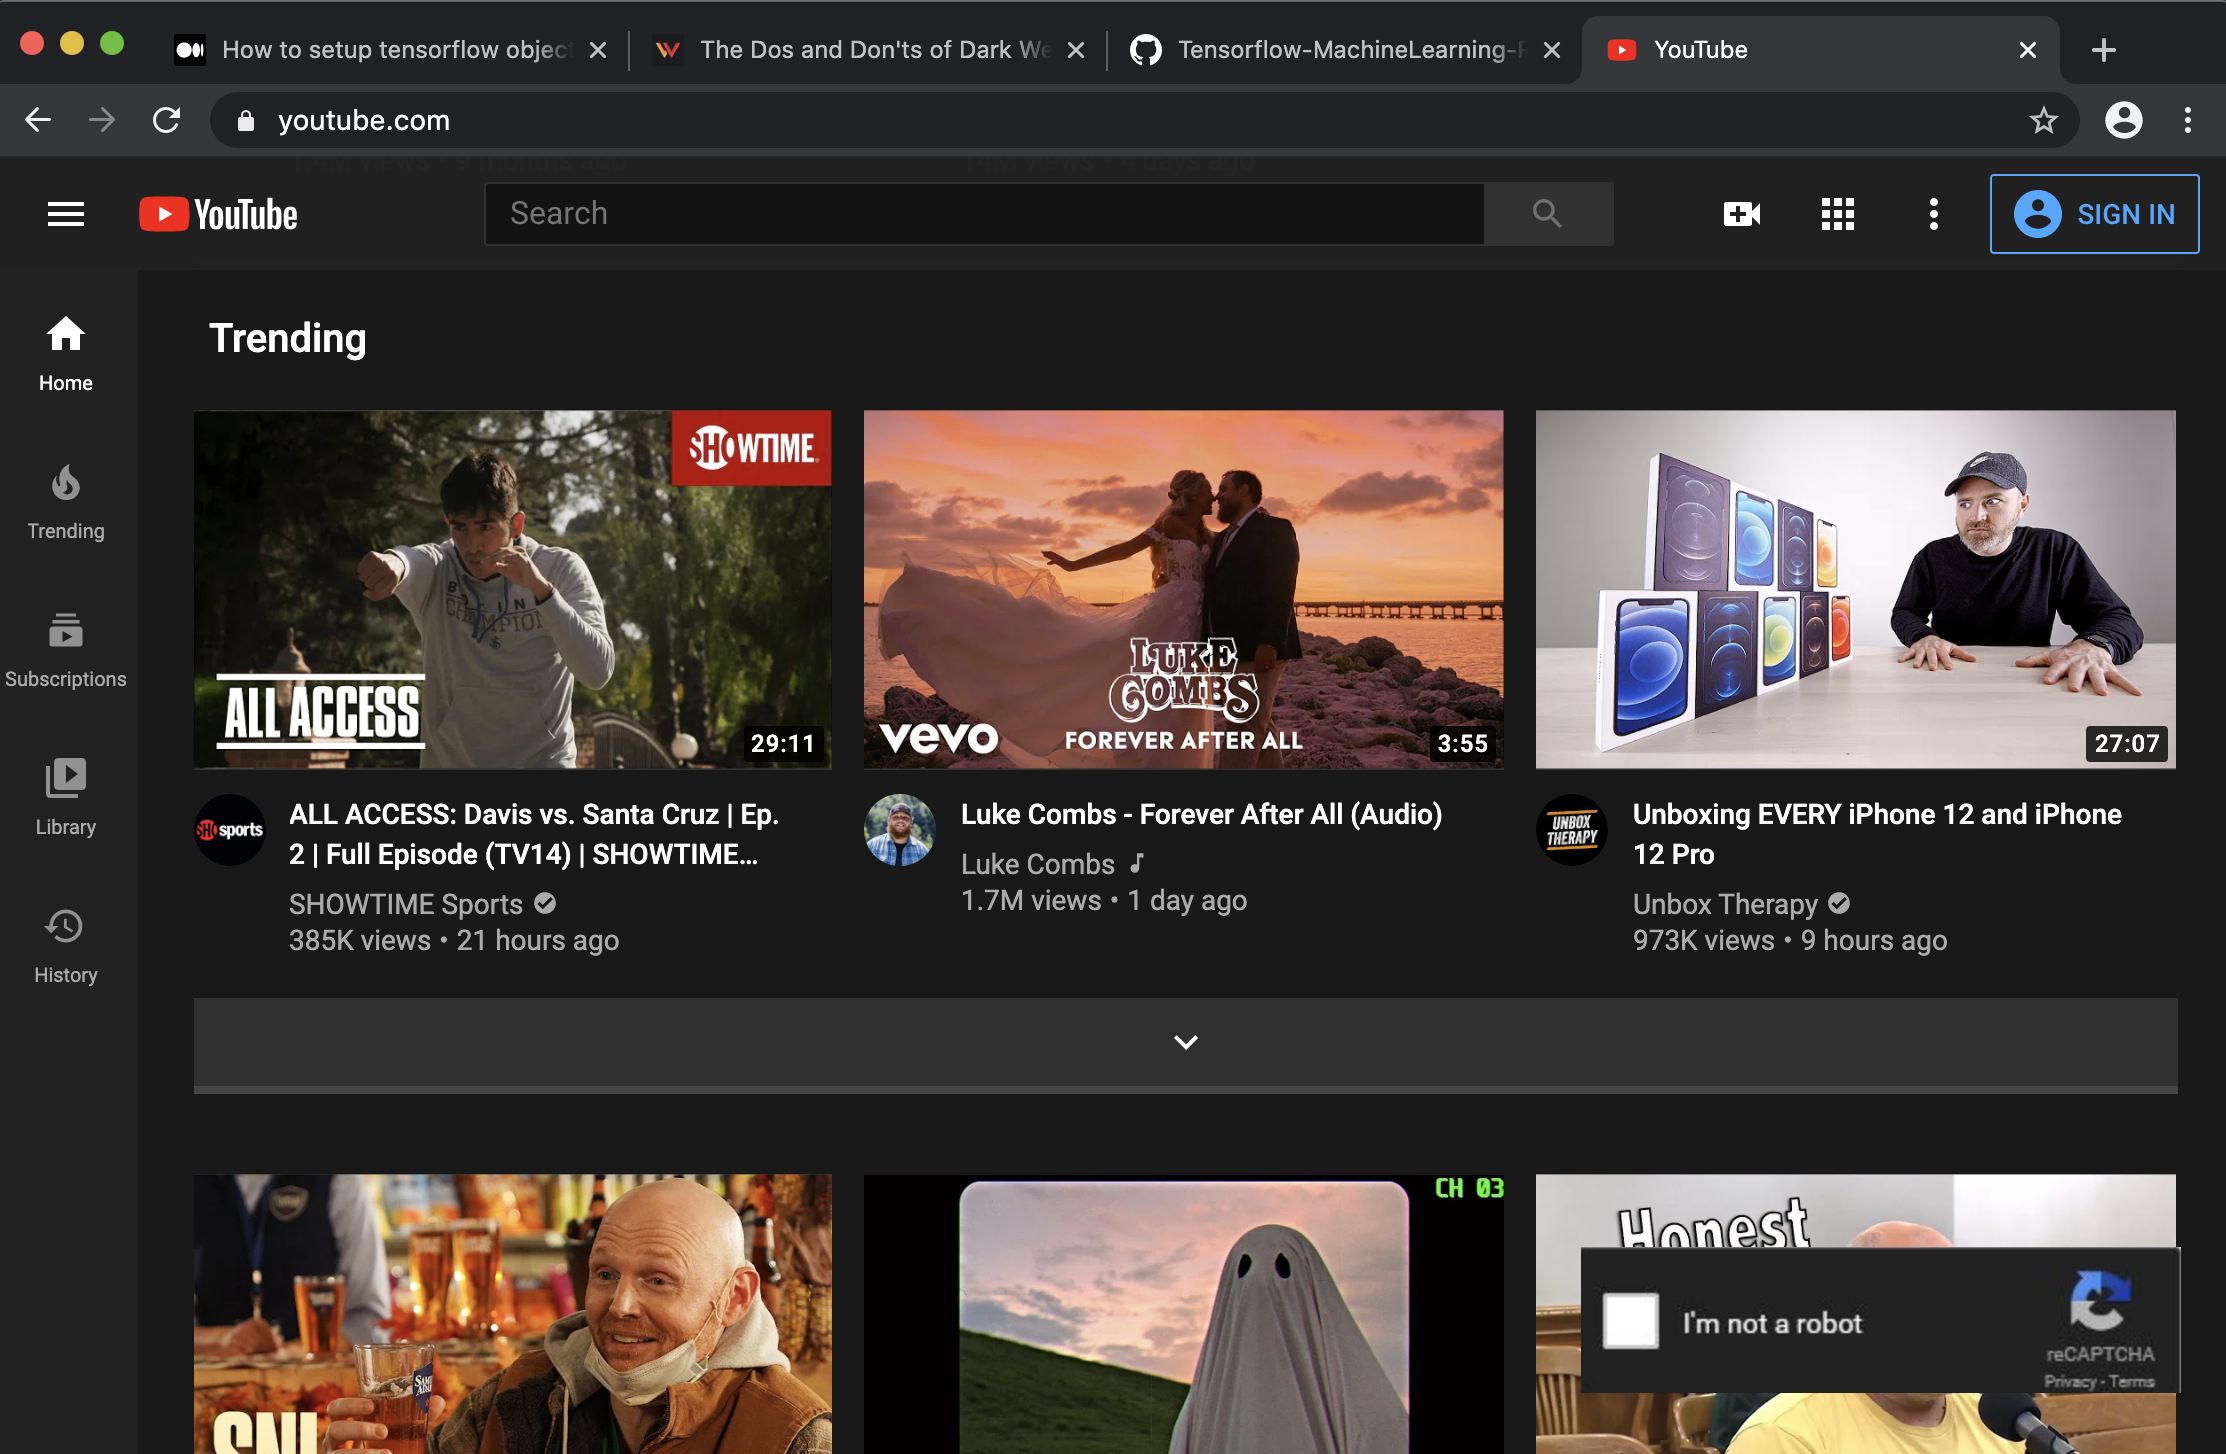captcha: (1566, 1225, 2198, 1423)
